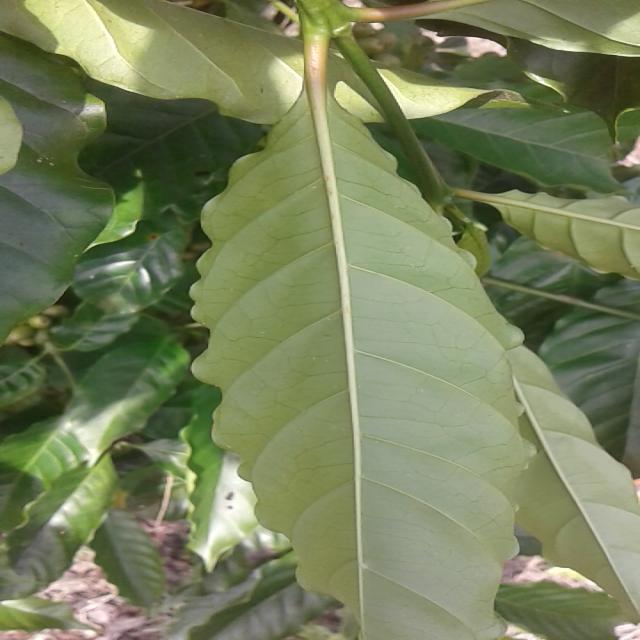Sanas: (190, 62, 535, 640)
